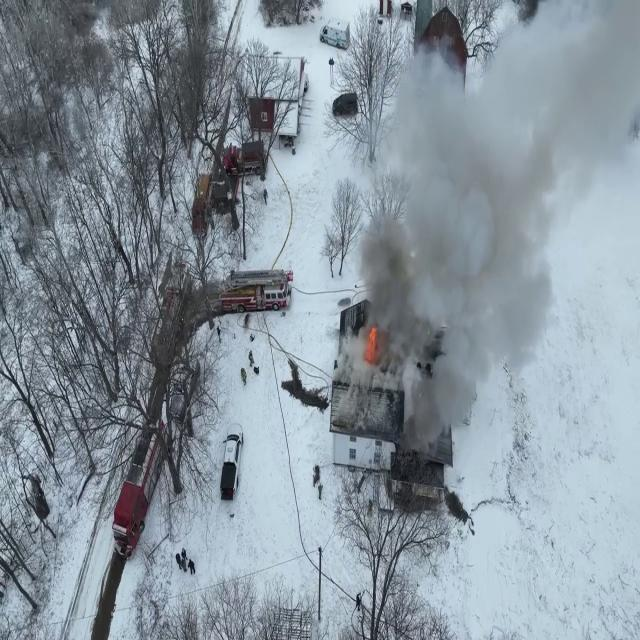Smoke: (351, 1, 639, 472)
